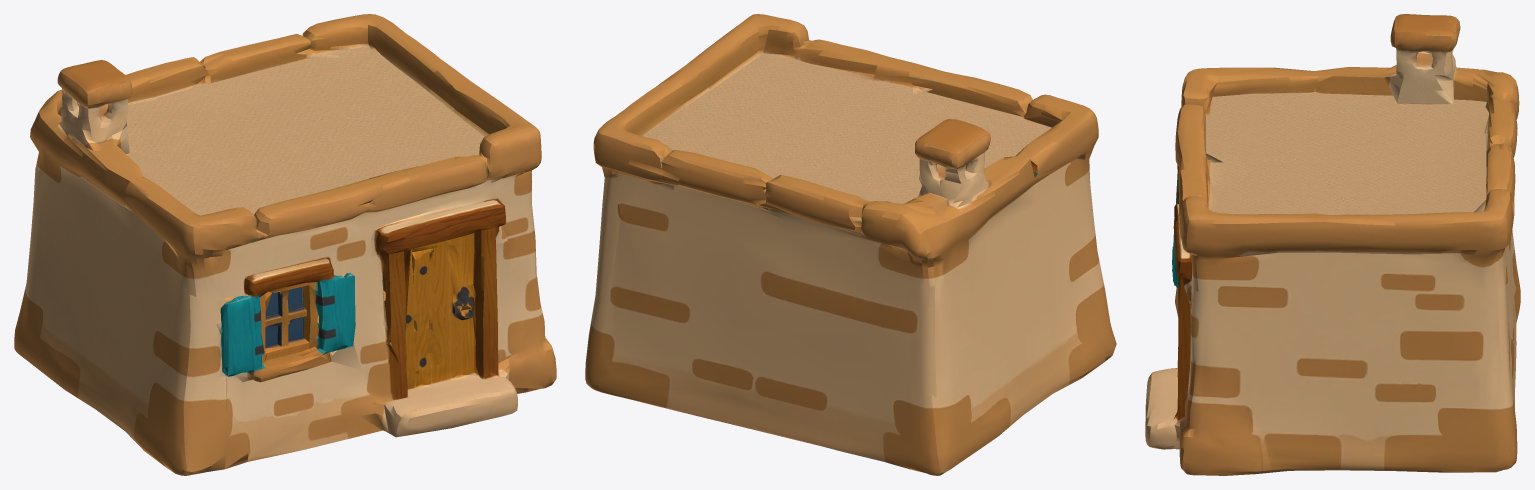
Rendered from kerpic-ev.glb.
The picture shows the model from 3 angles, left to right: view 1: azimuth 30°, elevation 25°; view 2: azimuth 150°, elevation 25°; view 3: azimuth 270°, elevation 25°; orthographic projection. The views are drawn at different scales.
Visible parts, largest first — view 1: Mesh0; view 2: Mesh0; view 3: Mesh0.
Part boxes in pixels (<box>): Mesh0: <box>14,14,556,475</box>; Mesh0: <box>585,14,1116,475</box>; Mesh0: <box>1145,14,1520,475</box>.
Size of the model in its own units: 1.9 by 1.45 by 1.66.
Materials: 1 (1 with a texture image).
